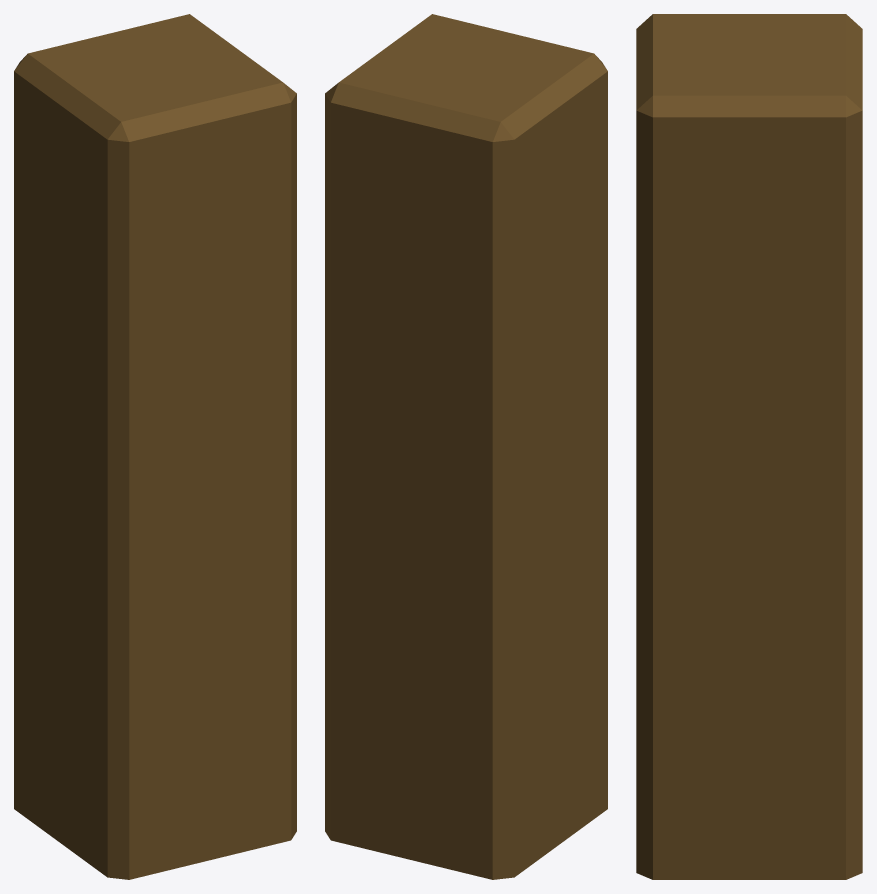
Rendered from Scaffolding_Pillar.fbx.
3 renders of one model, left to right at view 1: azimuth 30°, elevation 25°; view 2: azimuth 150°, elevation 25°; view 3: azimuth 270°, elevation 25°, orthographic. The views are drawn at different scales.
Parts seen in each view (by area): view 1: polySurface824; view 2: polySurface824; view 3: polySurface824.
Boxes of the visible parts, bbox=[...] form: polySurface824: bbox=[14, 14, 296, 879]; polySurface824: bbox=[325, 14, 607, 879]; polySurface824: bbox=[636, 14, 862, 879].
Size of the model in its own units: 11.2 by 42.51 by 11.2.
